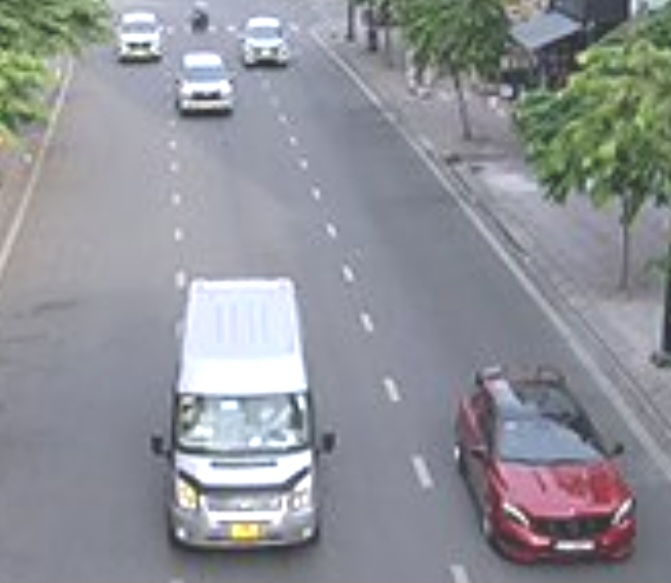car: (166, 283, 322, 547), (456, 371, 637, 561), (176, 53, 235, 116), (115, 11, 163, 63), (242, 16, 290, 67)
